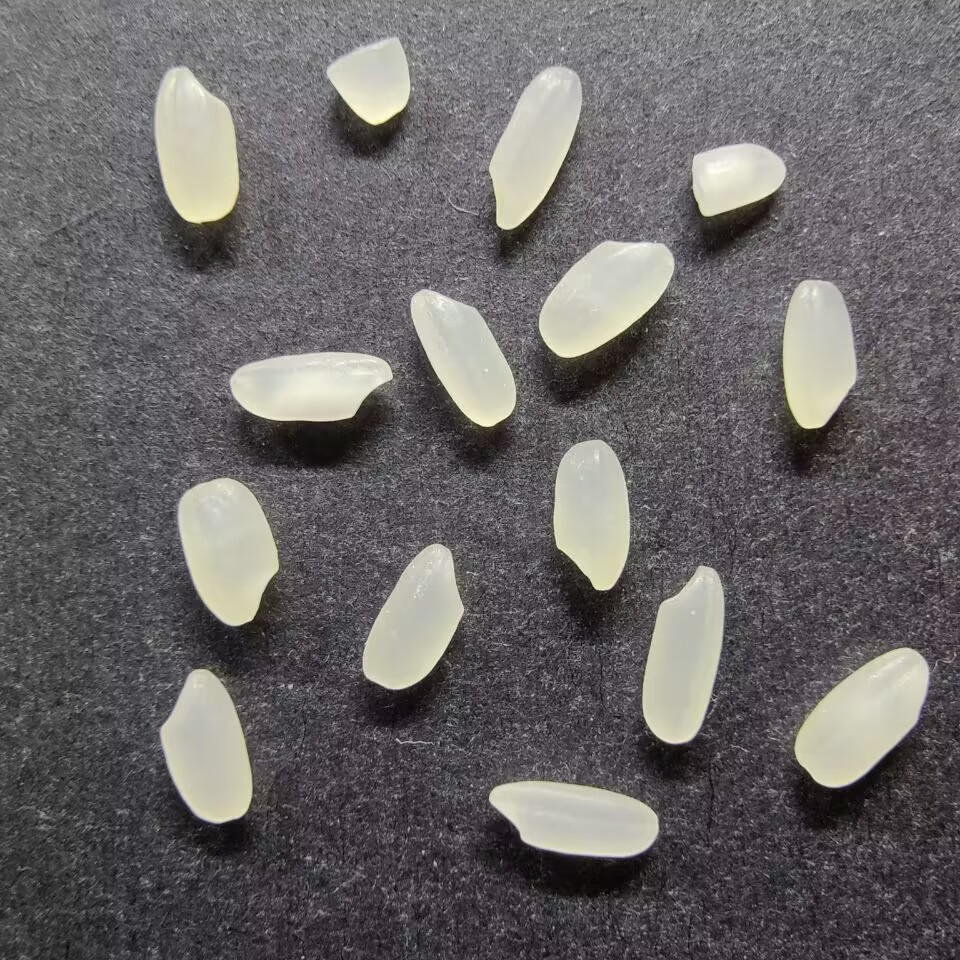broken: (323, 34, 412, 125), (689, 141, 787, 218)
rice: (792, 645, 931, 789), (536, 237, 676, 358), (174, 476, 280, 627), (360, 541, 466, 692), (487, 65, 583, 231), (639, 564, 727, 745), (157, 667, 253, 825), (408, 288, 517, 427), (151, 65, 241, 223), (487, 779, 659, 858), (550, 438, 631, 593), (227, 350, 393, 423), (780, 278, 859, 430)
